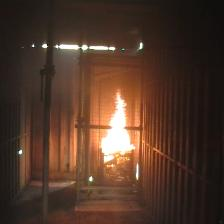fire: (102, 90, 136, 163)
